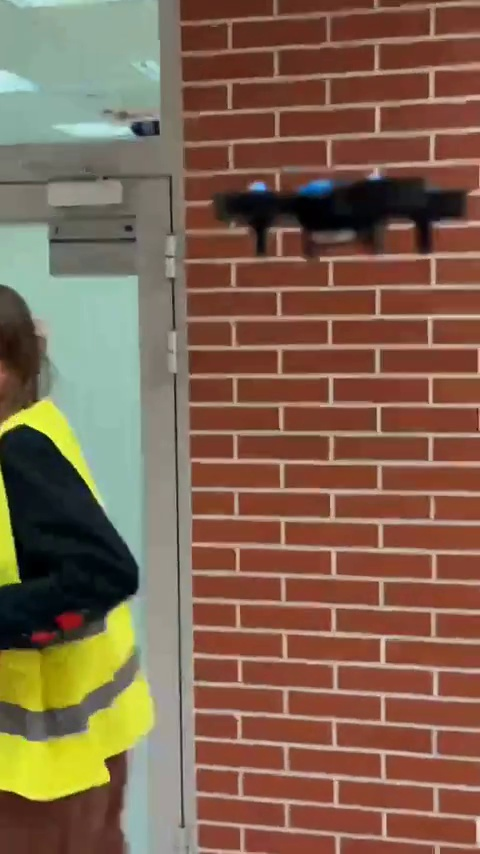drone: (209, 171, 469, 259)
vest: (0, 274, 168, 854)
